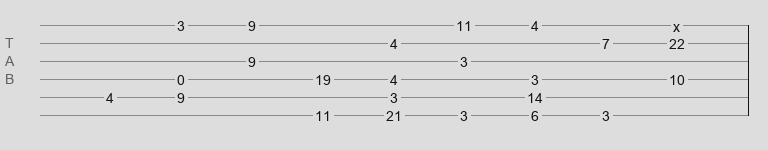0: (177, 72, 185, 82)
10: (669, 72, 685, 82)
11: (315, 108, 331, 118), (456, 18, 472, 28)
14: (527, 90, 543, 100)
19: (315, 72, 331, 82)
21: (386, 108, 402, 118)
22: (669, 36, 685, 46)
3: (177, 18, 185, 28), (390, 90, 398, 100), (460, 54, 468, 64), (460, 108, 468, 118), (531, 72, 539, 82), (602, 108, 610, 118)
4: (106, 90, 114, 100), (390, 36, 398, 46), (390, 72, 398, 82), (531, 18, 539, 28)
6: (531, 108, 539, 118)
7: (602, 36, 610, 46)
9: (177, 90, 185, 100), (248, 54, 256, 64), (248, 18, 256, 28)
x: (673, 19, 680, 27)
